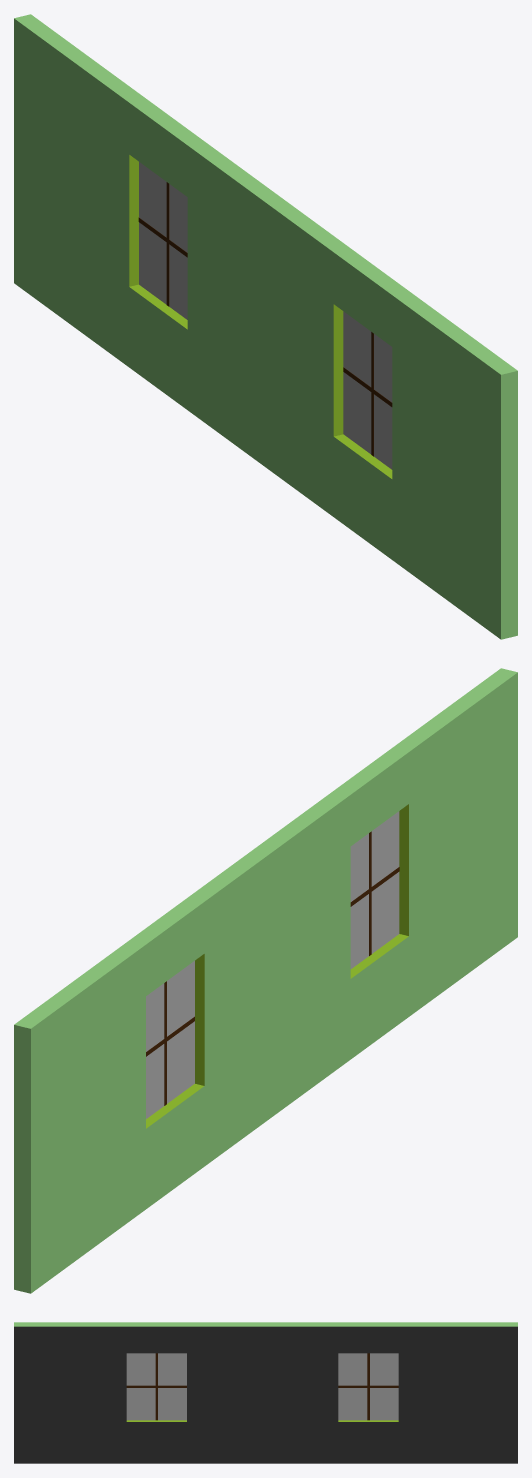
Rendered from Wall_10m_3m_windows.fbx.
The picture shows the model from 3 angles, top to bottom: view 1: azimuth 30°, elevation 25°; view 2: azimuth 150°, elevation 25°; view 3: azimuth 270°, elevation 25°; orthographic projection. The views are drawn at different scales.
Visible parts, largest first — view 1: Wall_10m_3m_windows; view 2: Wall_10m_3m_windows; view 3: Wall_10m_3m_windows.
Boxes of the visible parts, box(x1,y1,x2,y2) form: Wall_10m_3m_windows: box(14, 14, 517, 639); Wall_10m_3m_windows: box(14, 668, 517, 1293); Wall_10m_3m_windows: box(14, 1322, 517, 1463).
Size of the model in its own units: 20 by 300 by 1000.
